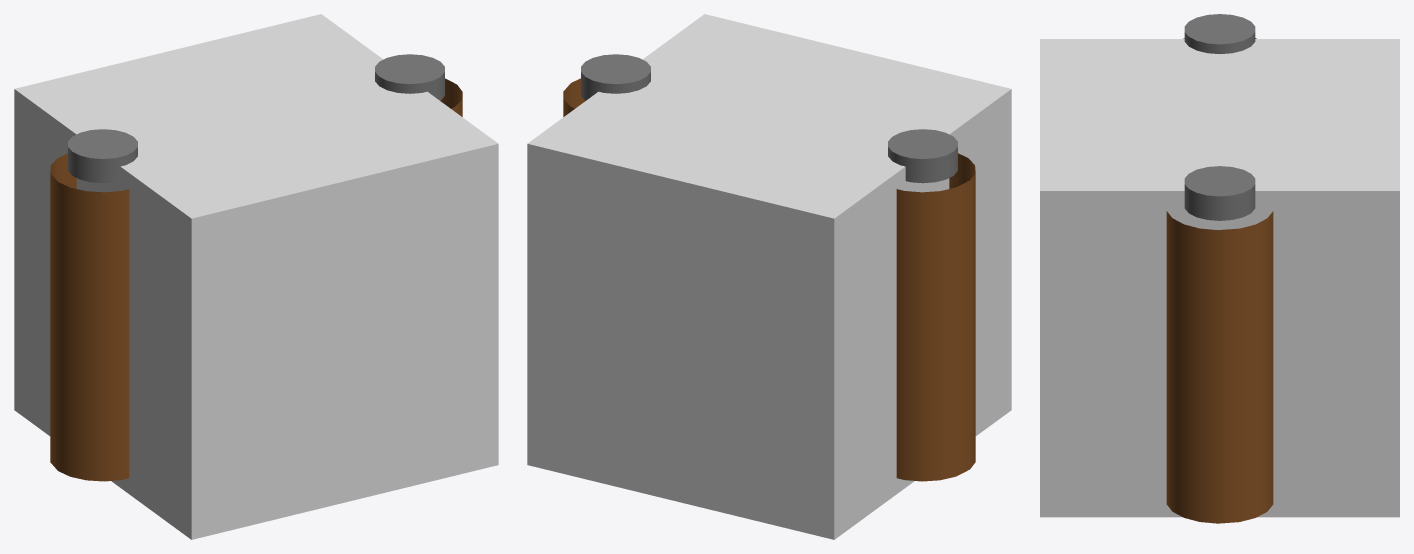
Rendered from machinegunHandle_active.fbx.
3 views of the same model, side by side, from view 1: azimuth 30°, elevation 25°; view 2: azimuth 150°, elevation 25°; view 3: azimuth 270°, elevation 25° (orthographic).
Parts seen in each view (by area): view 1: Коллизия, Основание; view 2: Коллизия, Основание; view 3: Коллизия, Основание.
Part boxes in pixels (box(x1,y1,x2,y2)): Коллизия: box(14, 14, 498, 539); Основание: box(50, 54, 462, 481); Коллизия: box(527, 14, 1011, 539); Основание: box(563, 54, 975, 481); Коллизия: box(1040, 39, 1399, 517); Основание: box(1166, 14, 1273, 523).
Size of the model in its own units: 130 by 103 by 100.
